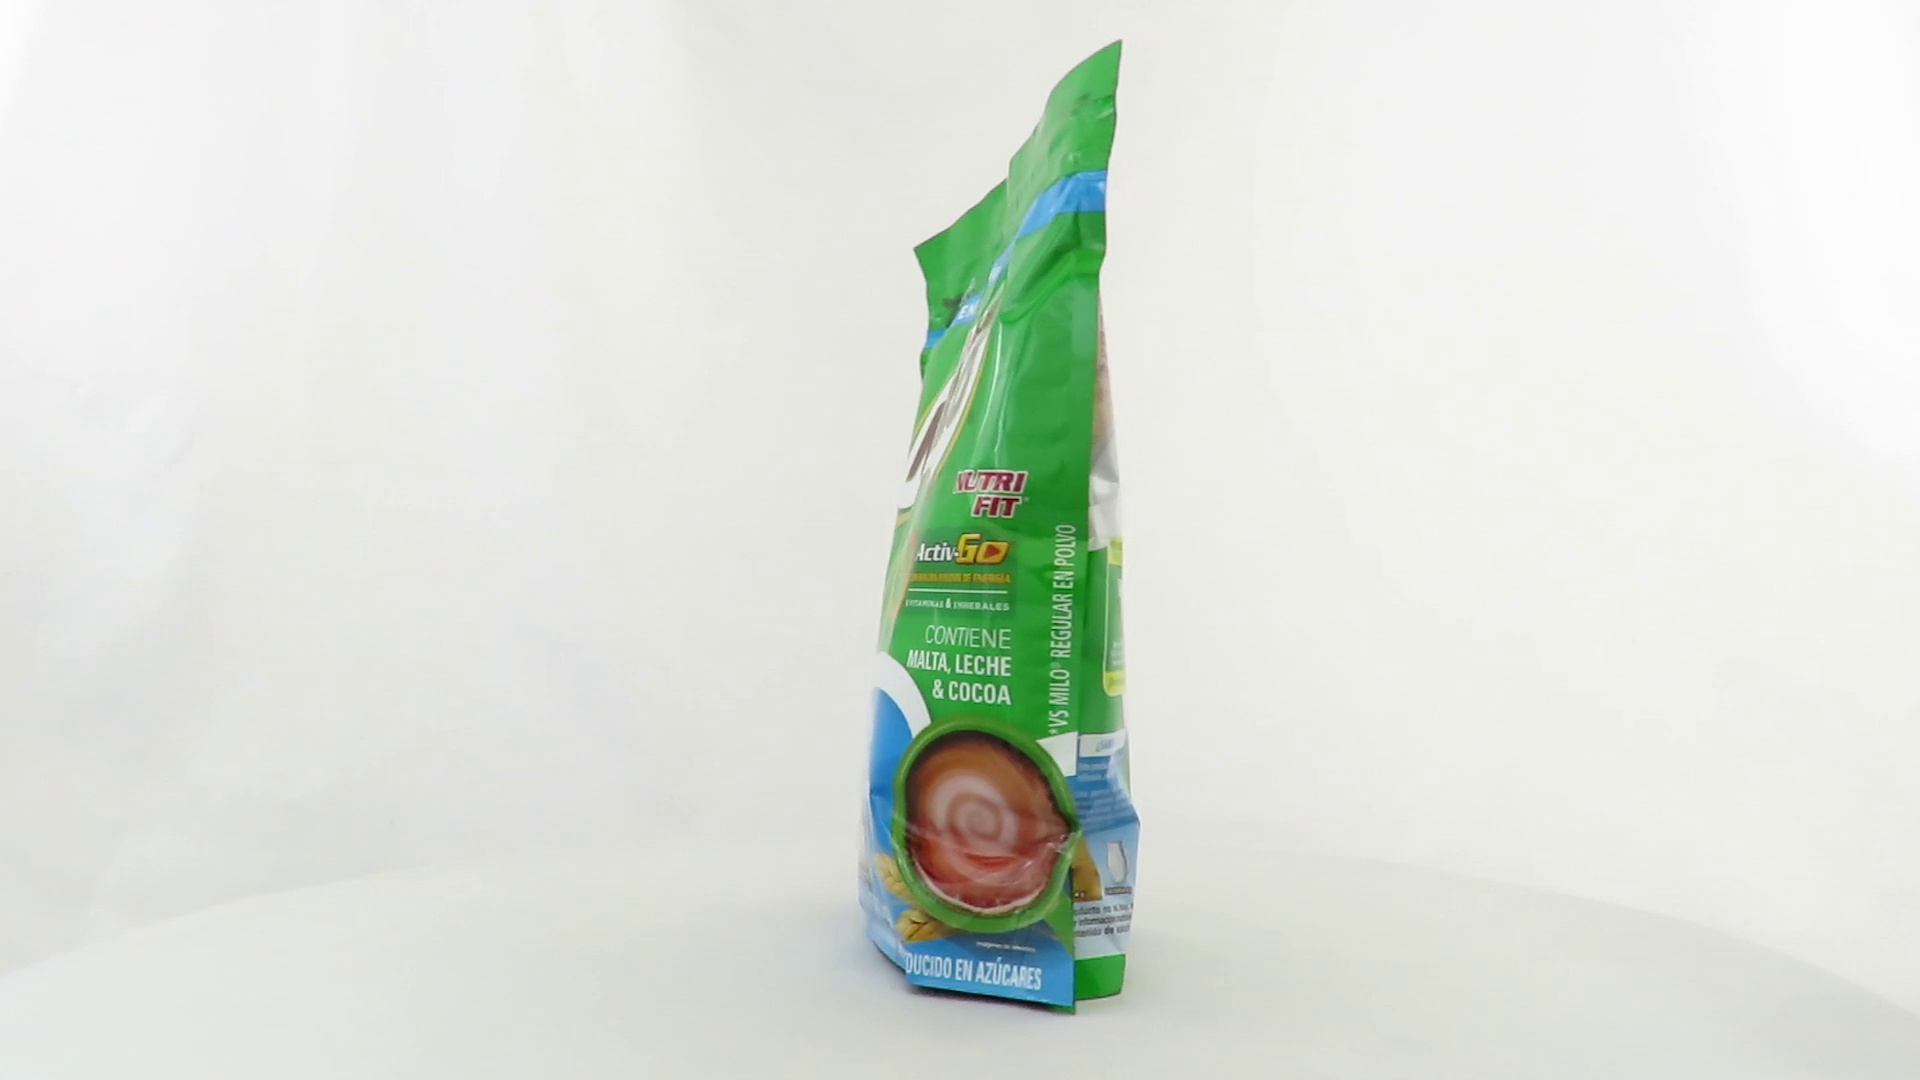COL0170205DYP50000: (861, 34, 1147, 1022)
